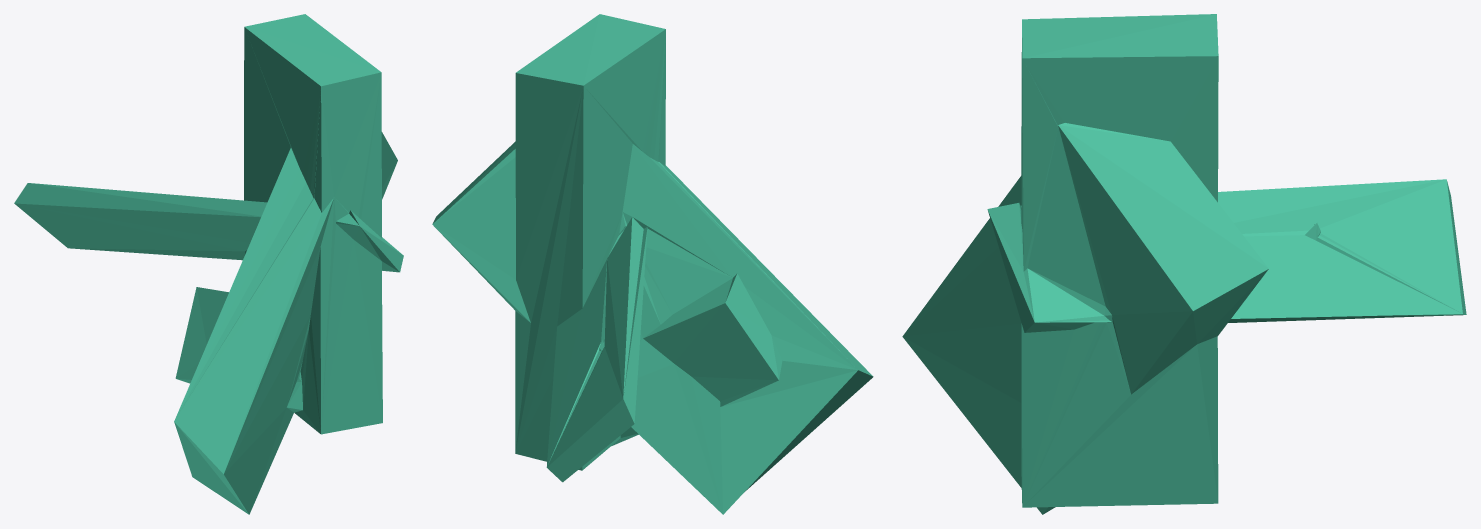
The picture shows the model from 3 angles, left to right: view 1: azimuth 30°, elevation 25°; view 2: azimuth 150°, elevation 25°; view 3: azimuth 270°, elevation 25°; orthographic projection. The views are drawn at different scales.
Visible parts, largest first — view 1: 465_Cube.1883; view 2: 465_Cube.1883; view 3: 465_Cube.1883.
Boxes of the visible parts, <box> form: 465_Cube.1883: <box>14,14,403,514</box>; 465_Cube.1883: <box>432,14,873,514</box>; 465_Cube.1883: <box>902,14,1466,514</box>.
Bounding box in the file's own units: 10.98 × 14.5 × 13.73.
